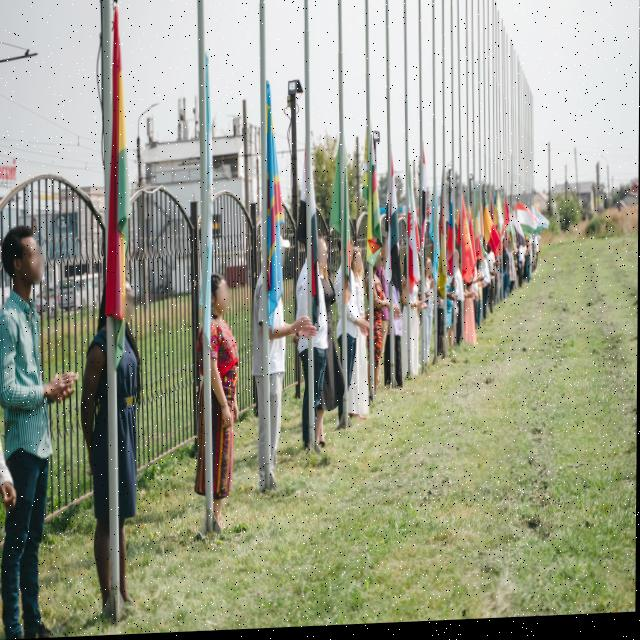Person: (0, 218, 62, 640), (90, 276, 153, 618), (191, 274, 246, 548), (256, 234, 296, 503), (298, 233, 327, 466), (345, 243, 370, 429), (314, 241, 334, 452), (352, 248, 375, 427), (370, 255, 385, 414), (421, 258, 435, 377), (454, 245, 467, 354), (501, 240, 509, 307), (510, 242, 516, 301)
